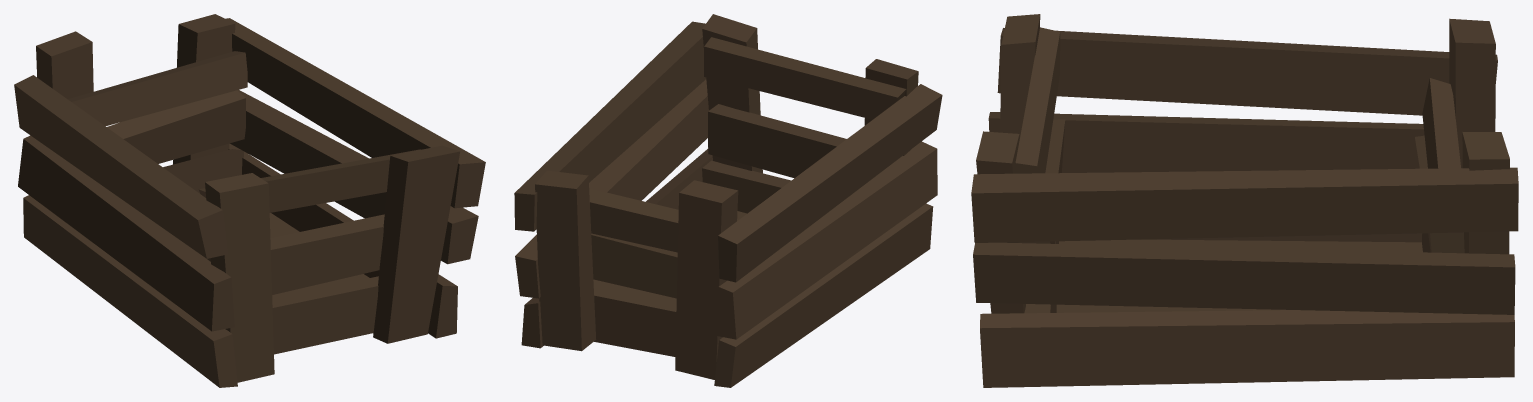
Rendered from crate_03.fbx.
3 renders of one model, left to right at view 1: azimuth 30°, elevation 25°; view 2: azimuth 150°, elevation 25°; view 3: azimuth 270°, elevation 25°, orthographic. The views are drawn at different scales.
Visible parts, largest first — view 1: crate_03; view 2: crate_03; view 3: crate_03.
Boxes of the visible parts, bbox=[...] form: crate_03: bbox=[14, 14, 485, 387]; crate_03: bbox=[514, 14, 942, 387]; crate_03: bbox=[971, 14, 1518, 387].
Bounding box in the file's own units: 40.4 × 27.69 × 56.27.
